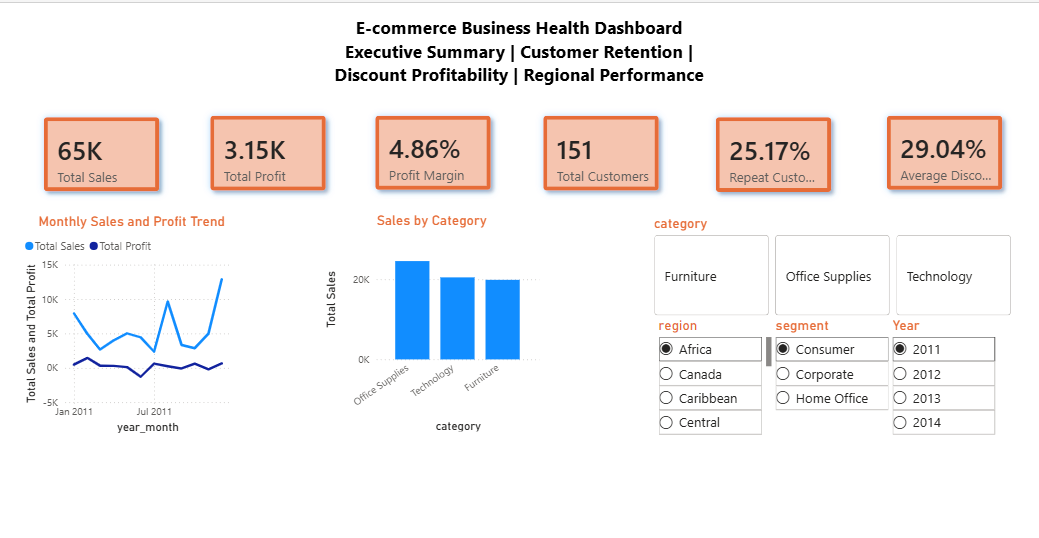

This screenshot's page, from the dashboard's own definition file:
{"tool":"powerbi","page":{"name":"Executive Summary","canvas":[1280,720],"ordinal":0},"visuals":[{"type":"textbox","box":[10,0,280,280],"z":0},{"type":"cardVisual","fields":{"Data":["superstore_cleaned.Total Customers"]},"box":[640.6,169.8,200.3,150],"z":0,"group":"g3"},{"type":"cardVisual","fields":{"Data":["superstore_cleaned.Total Sales"]},"box":[25.2,172.3,200.3,149.3],"z":0,"group":"g2"},{"type":"advancedSlicerVisual","fields":{"Values":["superstore_cleaned.category"]},"box":[801.2,321.2,450,129.2],"z":0,"group":"g4"},{"type":"listSlicer","fields":{"Values":["superstore_cleaned.region"]},"box":[806.7,446.7,150,150],"z":0,"group":"g1"},{"type":"textbox","box":[374.2,69.9,531,96.4],"z":1000},{"type":"cardVisual","fields":{"Data":["superstore_cleaned.Total Profit"]},"box":[229.8,171.2,200,150],"z":1000,"group":"g2"},{"type":"cardVisual","fields":{"Data":["superstore_cleaned.Repeat Customer Rate"]},"box":[852.2,171.8,200,150],"z":1000,"group":"g3"},{"type":"group","id":"g1","title":"Group 3","box":[806.7,446.7,437.5,150],"z":1000,"group":"g4"},{"type":"listSlicer","fields":{"Values":["superstore_cleaned.segment"]},"box":[951.5,446.8,149.5,147.7],"z":1000,"group":"g1"},{"type":"cardVisual","fields":{"Data":["superstore_cleaned.Profit Margin"]},"box":[434,170.6,200.3,149.3],"z":2000,"group":"g2"},{"type":"cardVisual","fields":{"Data":["superstore_cleaned.Average Discount"]},"box":[1064.1,170.7,200.3,149.3],"z":2000,"group":"g3"},{"type":"listSlicer","fields":{"Values":["superstore_cleaned.year_month.Variation.Date Hierarchy.Year"]},"box":[1094.7,446.7,149.5,149.5],"z":2000,"group":"g1"},{"type":"textbox","box":[10,570,280,150],"z":2000},{"type":"group","id":"g2","title":"Group 1","box":[25.2,170.6,609.2,151],"z":3000},{"type":"group","id":"g3","title":"Group 2","box":[640.6,169.8,624,151.4],"z":4000},{"type":"lineChart","title":"Monthly Sales and Profit Trend","fields":{"Y":["superstore_cleaned.Total Sales","superstore_cleaned.Total Profit"],"Category":["superstore_cleaned.year_month"]},"box":[25.8,319.4,275,275],"z":5000},{"type":"clusteredColumnChart","title":"Sales by Category","fields":{"Category":["superstore_cleaned.category"],"Y":["superstore_cleaned.Total Sales"]},"box":[395.1,317.5,275.1,275.1],"z":6000},{"type":"group","id":"g4","title":"Group 4","box":[801.2,321.2,450.5,275.1],"z":7000}]}

Visuals, with their boxes on the page's 1280x720 design canvas (x1, y1, x2, y2). These are canvas units, not pixel positions in the 1039x538 screenshot, which may show the page scaled, cropped or inside an application window:
textbox: [10,0,290,280]
cardVisual - superstore_cleaned.Total Customers: [641,170,841,320]
cardVisual - superstore_cleaned.Total Sales: [25,172,226,322]
advancedSlicerVisual - superstore_cleaned.category: [801,321,1251,450]
listSlicer - superstore_cleaned.region: [807,447,957,597]
textbox: [374,70,905,166]
cardVisual - superstore_cleaned.Total Profit: [230,171,430,321]
cardVisual - superstore_cleaned.Repeat Customer Rate: [852,172,1052,322]
"Group 3" group: [807,447,1244,597]
listSlicer - superstore_cleaned.segment: [952,447,1101,594]
cardVisual - superstore_cleaned.Profit Margin: [434,171,634,320]
cardVisual - superstore_cleaned.Average Discount: [1064,171,1264,320]
listSlicer - superstore_cleaned.year_month.Variation.Date Hierarchy.Year: [1095,447,1244,596]
textbox: [10,570,290,720]
"Group 1" group: [25,171,634,322]
"Group 2" group: [641,170,1265,321]
"Monthly Sales and Profit Trend" lineChart: [26,319,301,594]
"Sales by Category" clusteredColumnChart: [395,318,670,593]
"Group 4" group: [801,321,1252,596]
